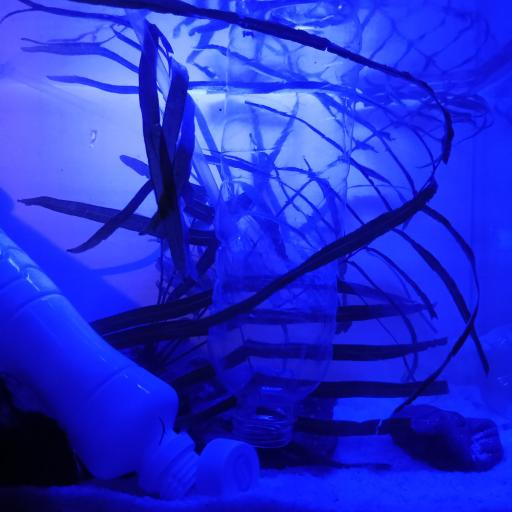bottle_cap: (204, 438, 259, 492)
plastic_bottle: (208, 2, 364, 446), (0, 228, 203, 498)
